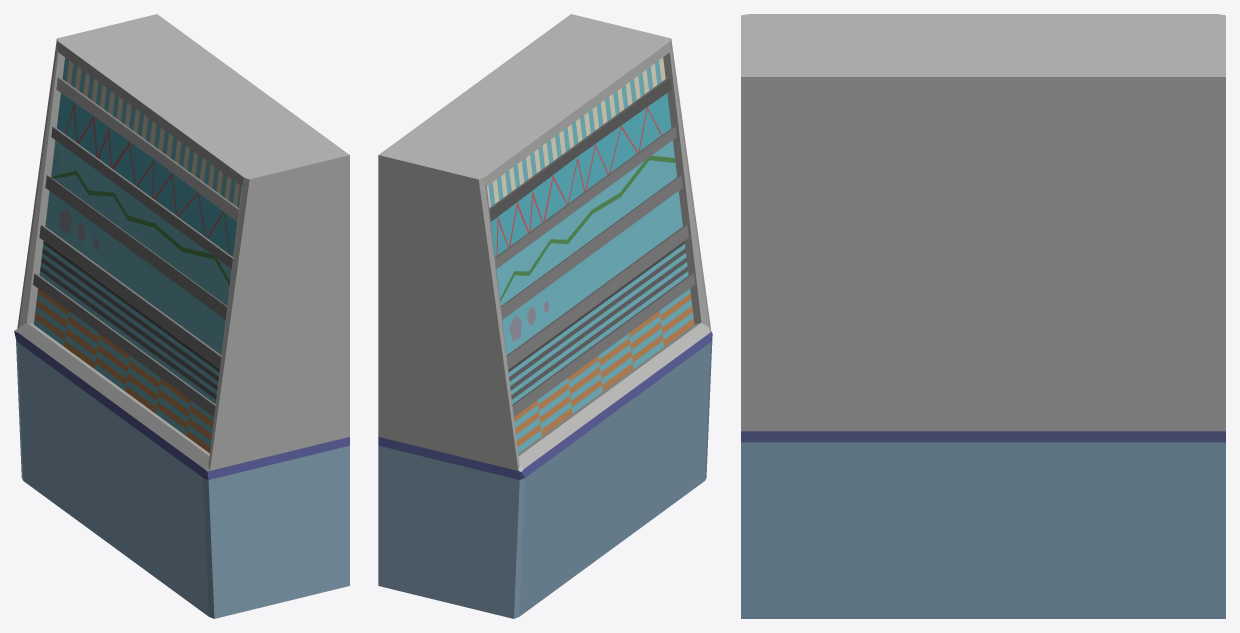
File: 0_1_Computer_1.fbx
The picture shows the model from 3 angles, left to right: view 1: azimuth 30°, elevation 25°; view 2: azimuth 150°, elevation 25°; view 3: azimuth 270°, elevation 25°; orthographic projection. The views are drawn at different scales.
Parts seen in each view (by area): view 1: 0_1_Computer_1; view 2: 0_1_Computer_1; view 3: 0_1_Computer_1.
Part boxes in pixels (box(x1,y1,x2,y2)): 0_1_Computer_1: box(14, 14, 349, 618); 0_1_Computer_1: box(378, 14, 712, 618); 0_1_Computer_1: box(741, 14, 1225, 618).
Bounding box in the file's own units: 85.82 × 247 × 200.
